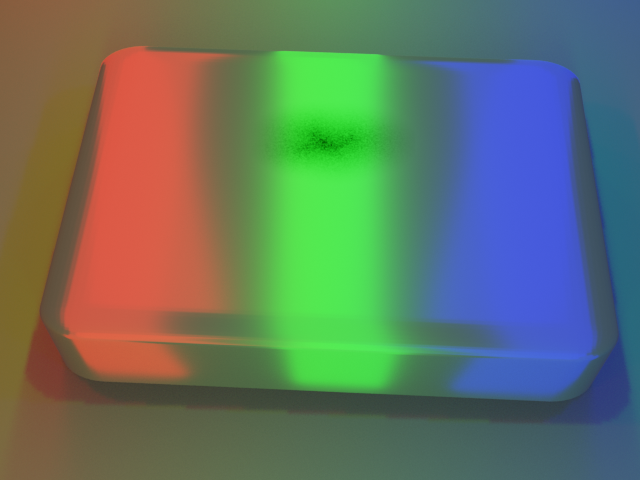stain: (216, 73, 427, 187)
